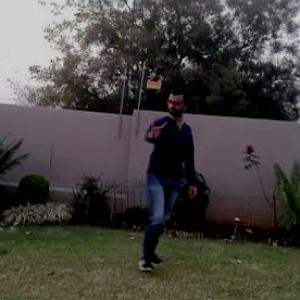takeoff-hand: (144, 112, 168, 141)
